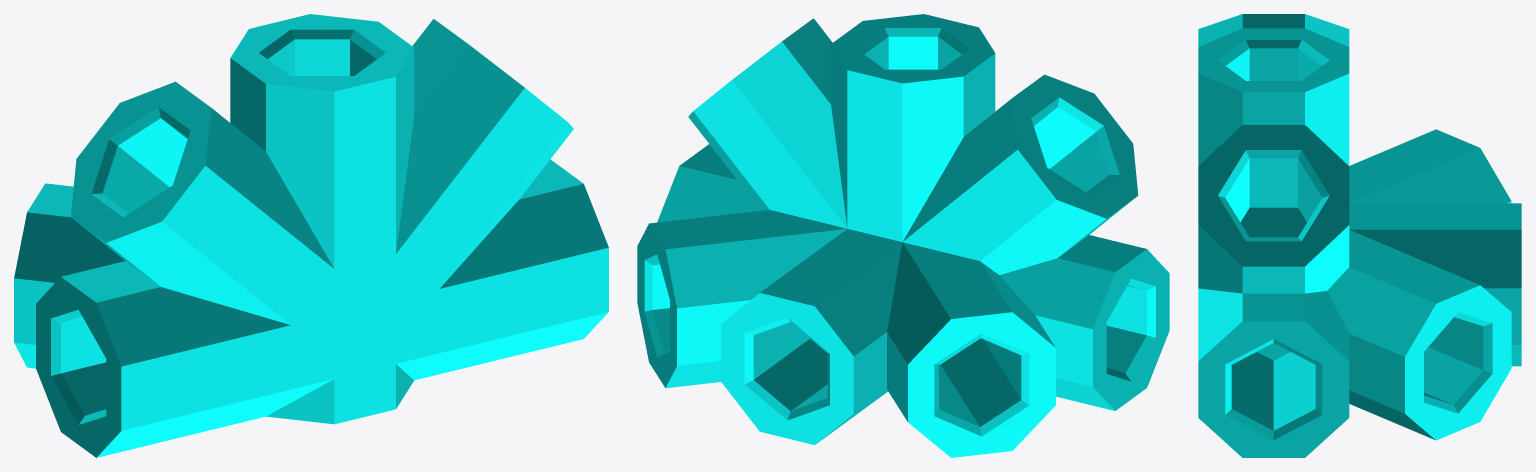
The model's file is 180 Connector 8 Point.glb.
3 views of the same model, side by side, from view 1: azimuth 30°, elevation 25°; view 2: azimuth 150°, elevation 25°; view 3: azimuth 270°, elevation 25° (orthographic). The views are drawn at different scales.
Parts seen in each view (by area): view 1: Node1; view 2: Node1; view 3: Node1.
Part boxes in pixels (x1,y1,x2,y2): Node1: (14,14,608,457); Node1: (637,14,1169,457); Node1: (1198,14,1521,457).
Bounding box in the file's own units: 23 × 15 × 15.
